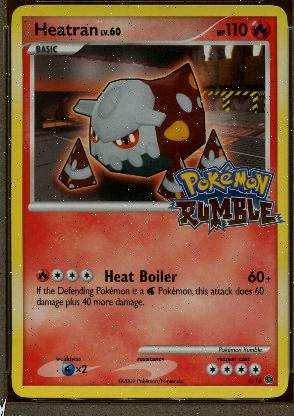Card: (10, 4, 290, 398)
